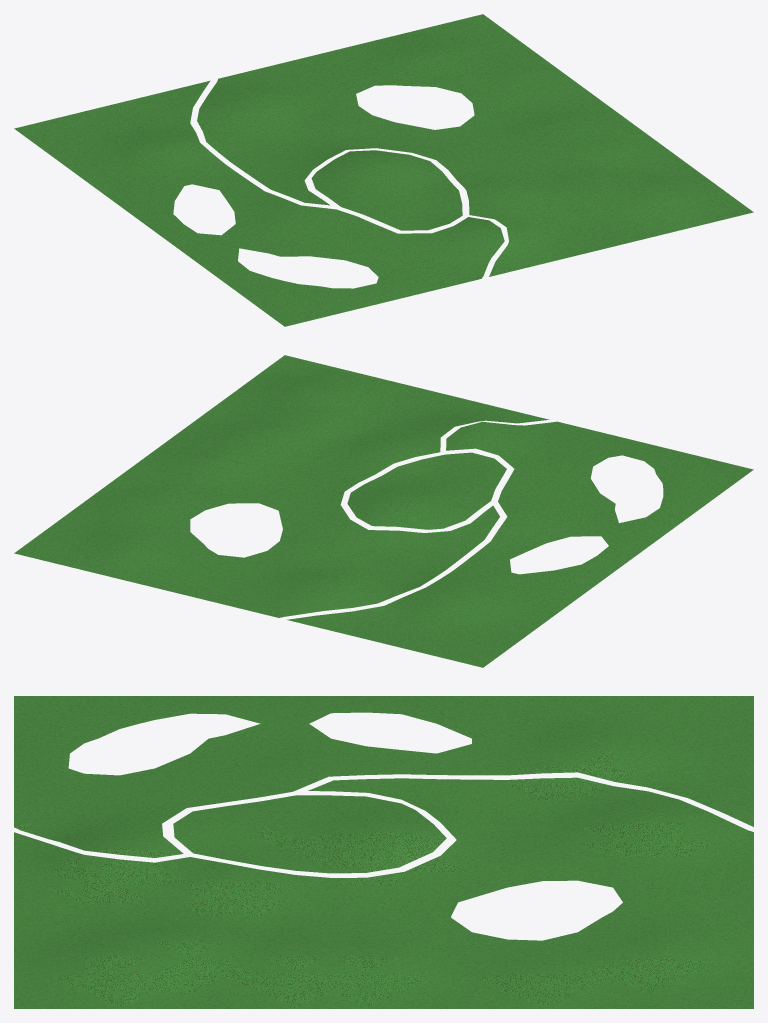
File: rock_kicking_park_ground_complete.glb
The picture shows the model from 3 angles, top to bottom: view 1: azimuth 30°, elevation 25°; view 2: azimuth 150°, elevation 25°; view 3: azimuth 270°, elevation 25°; orthographic projection. The views are drawn at different scales.
Visible parts, largest first — view 1: GroundIntact; view 2: GroundIntact; view 3: GroundIntact.
Boxes of the visible parts, x1,y1,x2,y2 form: GroundIntact: (14, 14, 753, 326); GroundIntact: (14, 355, 753, 667); GroundIntact: (14, 696, 753, 1008).
Bounding box in the file's own units: 500 × 10.68 × 500.
Materials: 1 (1 with a texture image).
